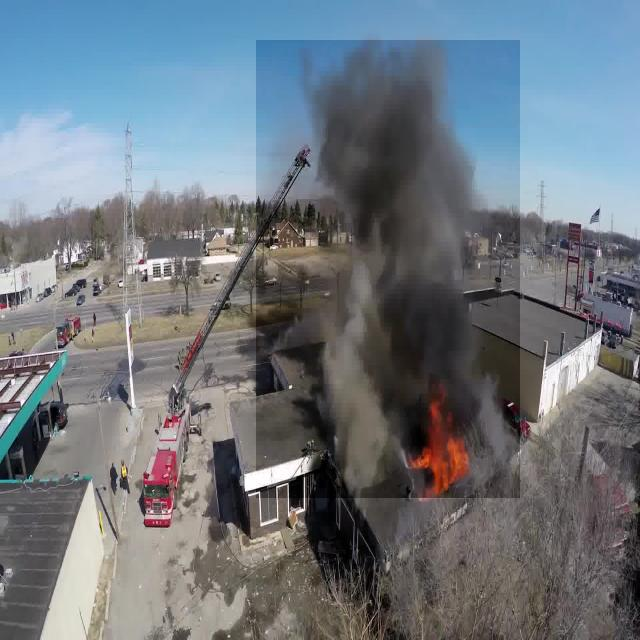Fire: (403, 390, 470, 500)
Smoke: (256, 40, 520, 498)
